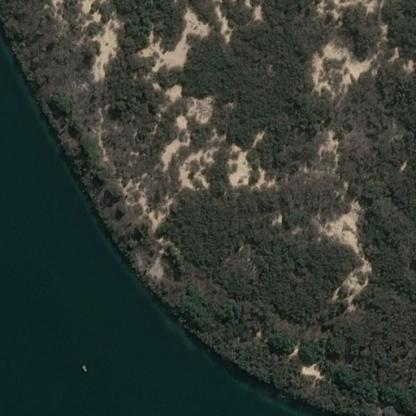ship: (78, 359, 90, 374)
